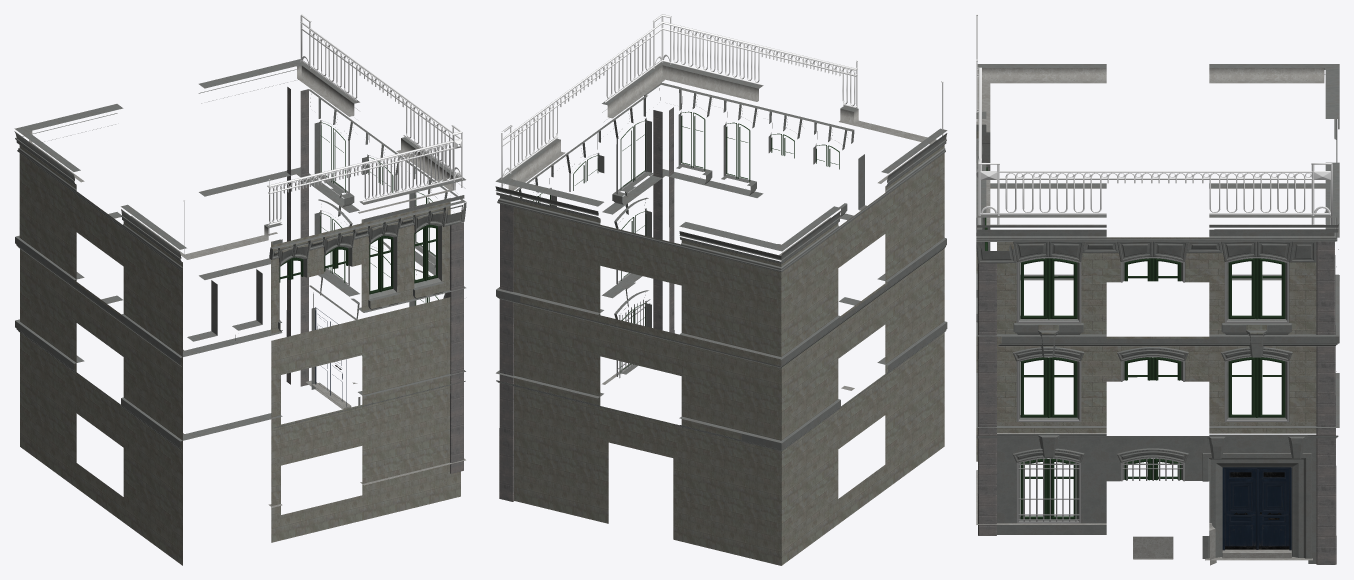
Rendered from B_BuildingCorner_adapted.glb.
The picture shows the model from 3 angles, left to right: view 1: azimuth 30°, elevation 25°; view 2: azimuth 150°, elevation 25°; view 3: azimuth 270°, elevation 25°; orthographic projection. The views are drawn at different scales.
Bounding box in the file's own units: 10.6 × 12.92 × 10.6.
Materials: 8 (6 with a texture image).
